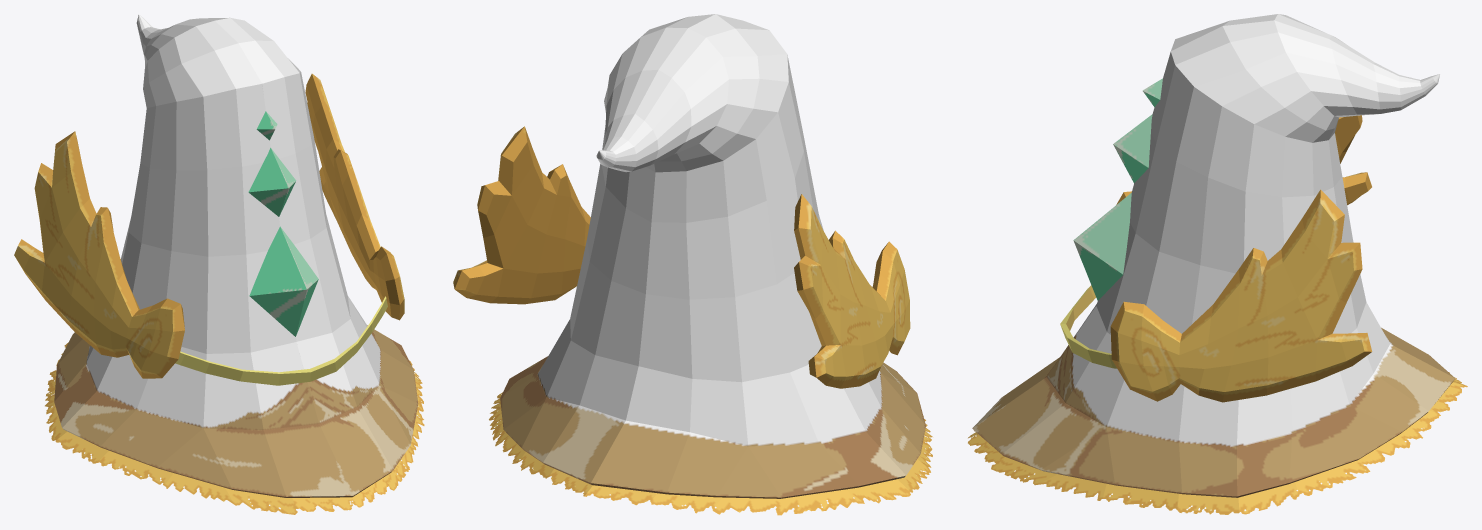
The model's file is MageLightHat_export.fbx.
3 views of the same model, side by side, from view 1: azimuth 30°, elevation 25°; view 2: azimuth 150°, elevation 25°; view 3: azimuth 270°, elevation 25° (orthographic). The views are drawn at different scales.
Parts seen in each view (by area): view 1: chapeu luz; view 2: chapeu luz; view 3: chapeu luz.
Part boxes in pixels (x1,y1,x2,y2): chapeu luz: [14, 14, 424, 514]; chapeu luz: [453, 14, 932, 515]; chapeu luz: [968, 14, 1467, 514].
Bounding box in the file's own units: 0.552 × 0.5753 × 0.6234.
